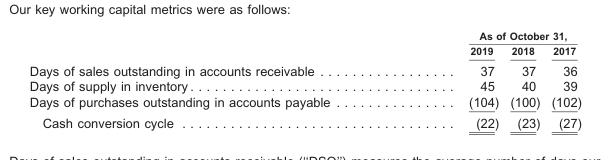table: (28, 29, 580, 129)
table column: (28, 29, 398, 129), (398, 29, 503, 129), (503, 29, 545, 129), (545, 29, 580, 129)
table column header: (28, 29, 580, 59)
table row: (28, 59, 580, 78), (28, 93, 580, 111), (28, 111, 580, 129), (28, 42, 580, 59), (28, 78, 580, 93), (28, 29, 580, 42)
table spanning cell: (398, 29, 580, 42)
